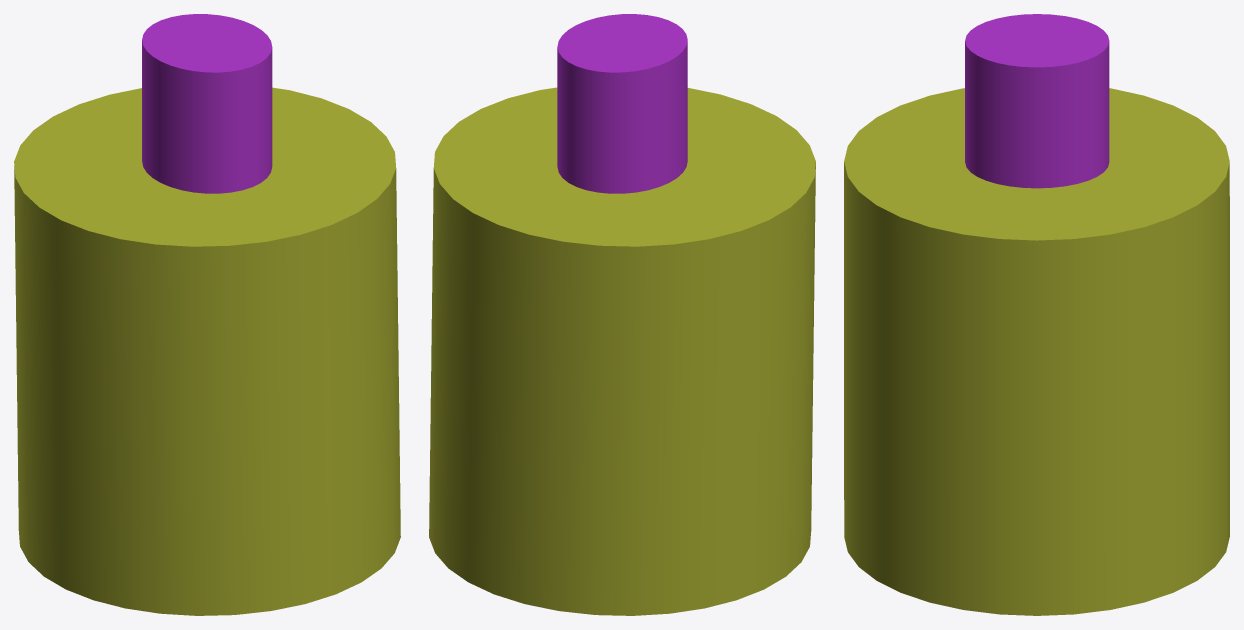
3 renders of one model, left to right at view 1: azimuth 30°, elevation 25°; view 2: azimuth 150°, elevation 25°; view 3: azimuth 270°, elevation 25°, orthographic.
Visible parts, largest first — view 1: Object_7, Object_4; view 2: Object_7, Object_4; view 3: Object_7, Object_4.
Boxes of the visible parts, x1,y1,x2,y2 form: Object_7: (14,87,400,615); Object_4: (142,14,272,193); Object_7: (429,87,815,615); Object_4: (557,14,687,193); Object_7: (844,88,1229,615); Object_4: (965,14,1109,188).
Size of the model in its own units: 0.713 by 1 by 0.7033.
